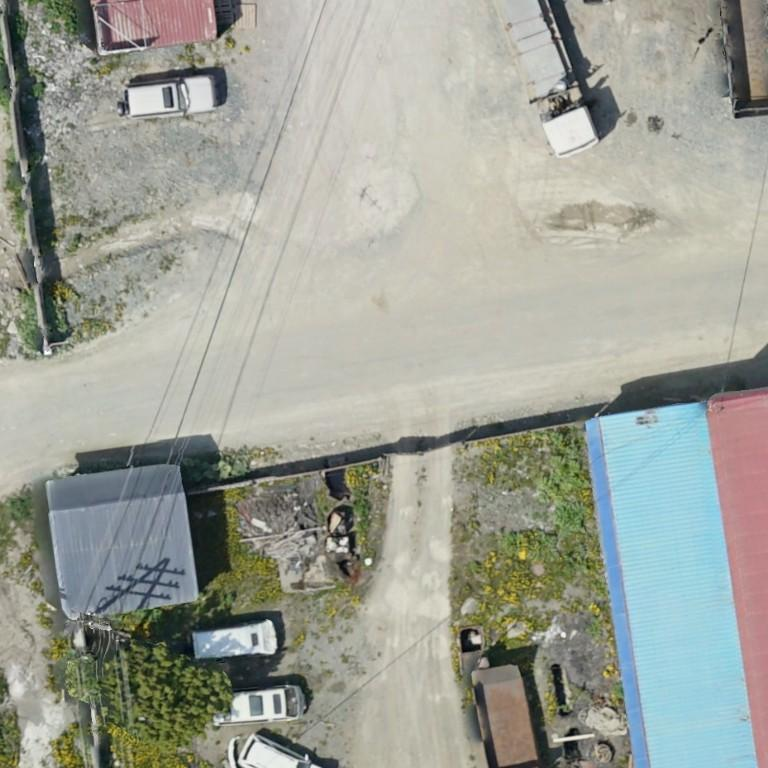hogweed: (555, 500, 586, 532)
